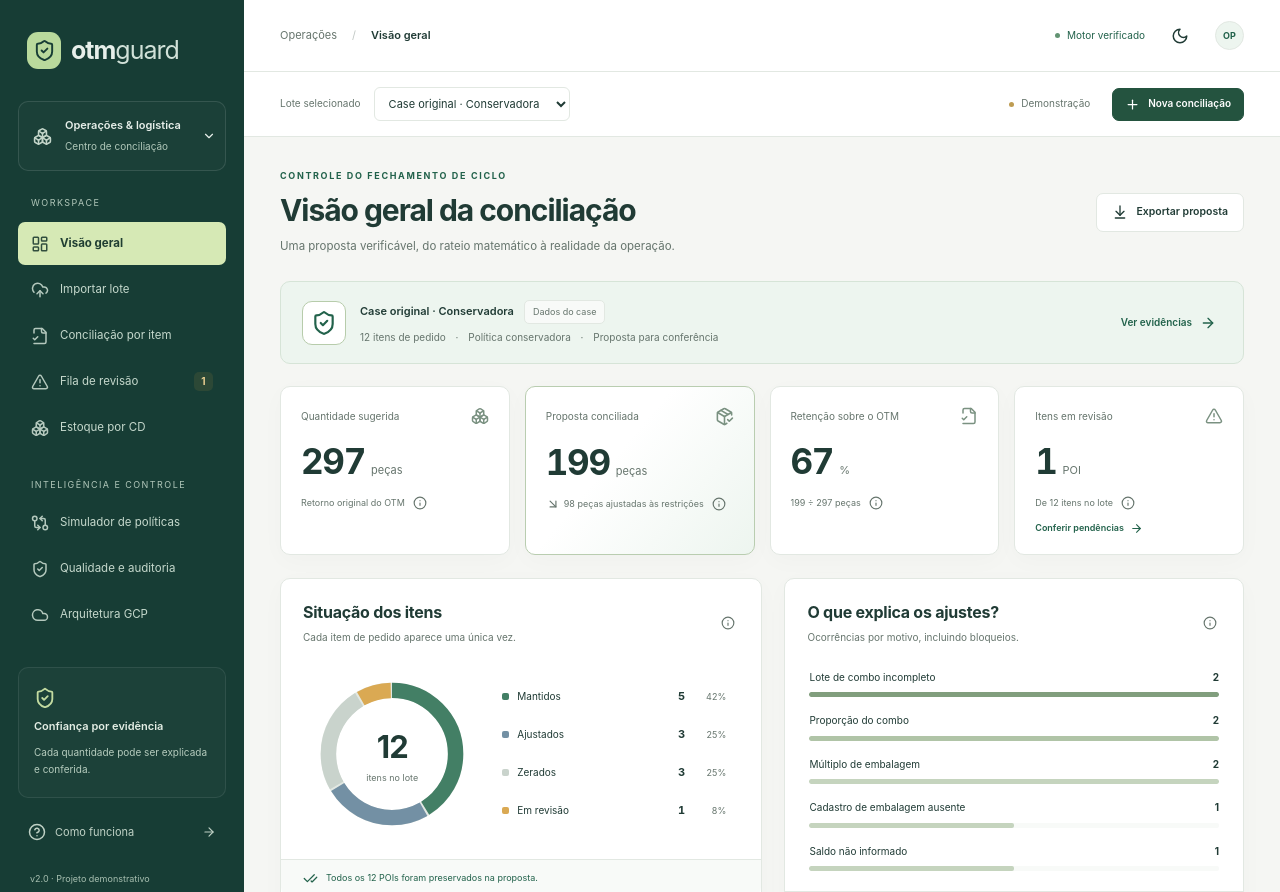
Test: Jornada principal › alterna o tema mantendo a preferência
The image size is (1280, 892).
Expected: the heading "Visão geral da conciliação" is shown, [280,192,675,228]
Click the button named "Ativar modo escuro".
click(1180, 36)  # box [1164,20,1196,52]
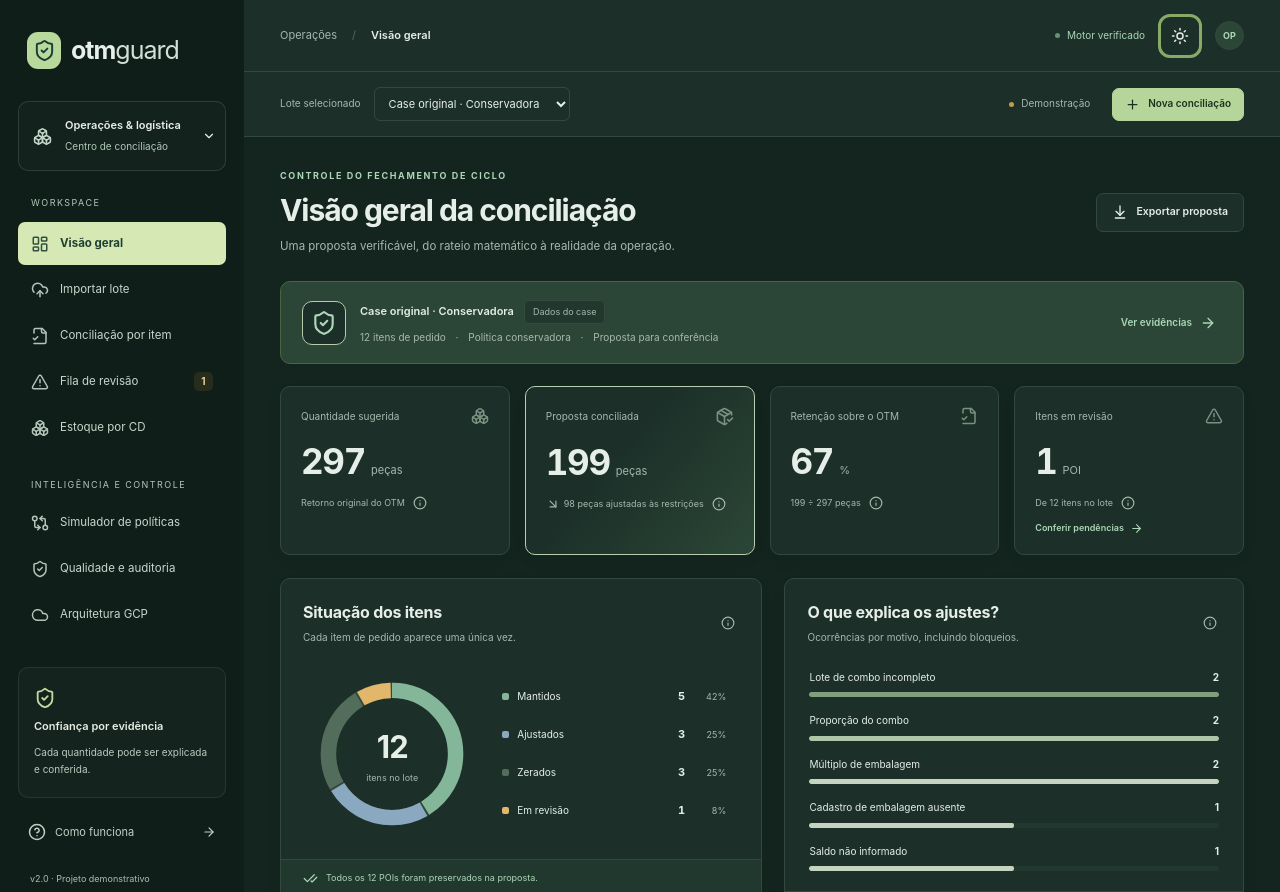
Result: the button named "Ativar modo claro" is shown at [1164,20,1196,52]
